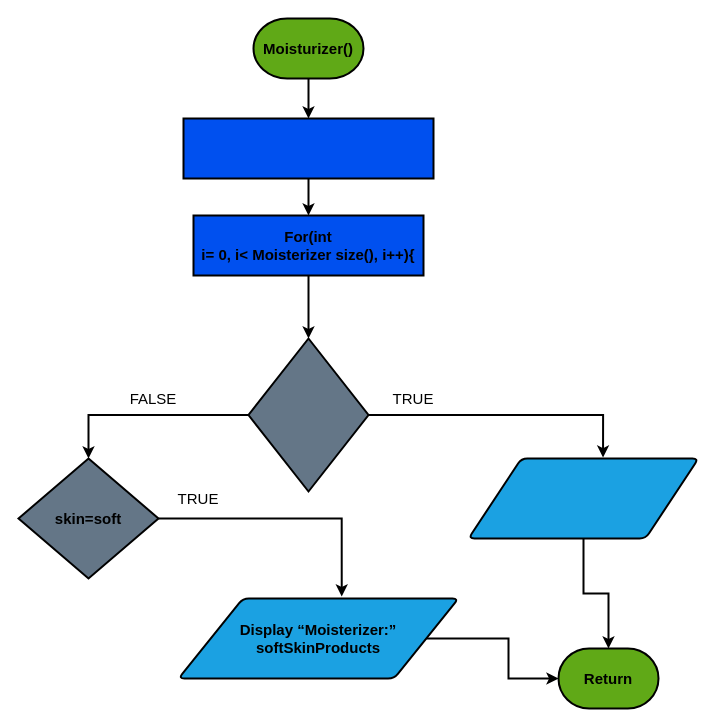
Image size: 716x726. Some labels were removed from this diagram. The shapes that lost their labels are listed below. From the top down, each one's centre as x and y in pixels, then its label:
At point (308, 148): "ArrayList[String] Moisterizer= new ArrayList[]".
At point (308, 414): "skin=hard".
At point (583, 498): "Display ”Moisterizer:” hardSkinProducts".
